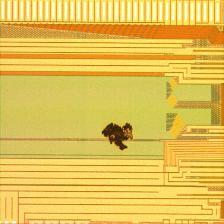PARTICLE: (100, 121, 137, 153)
